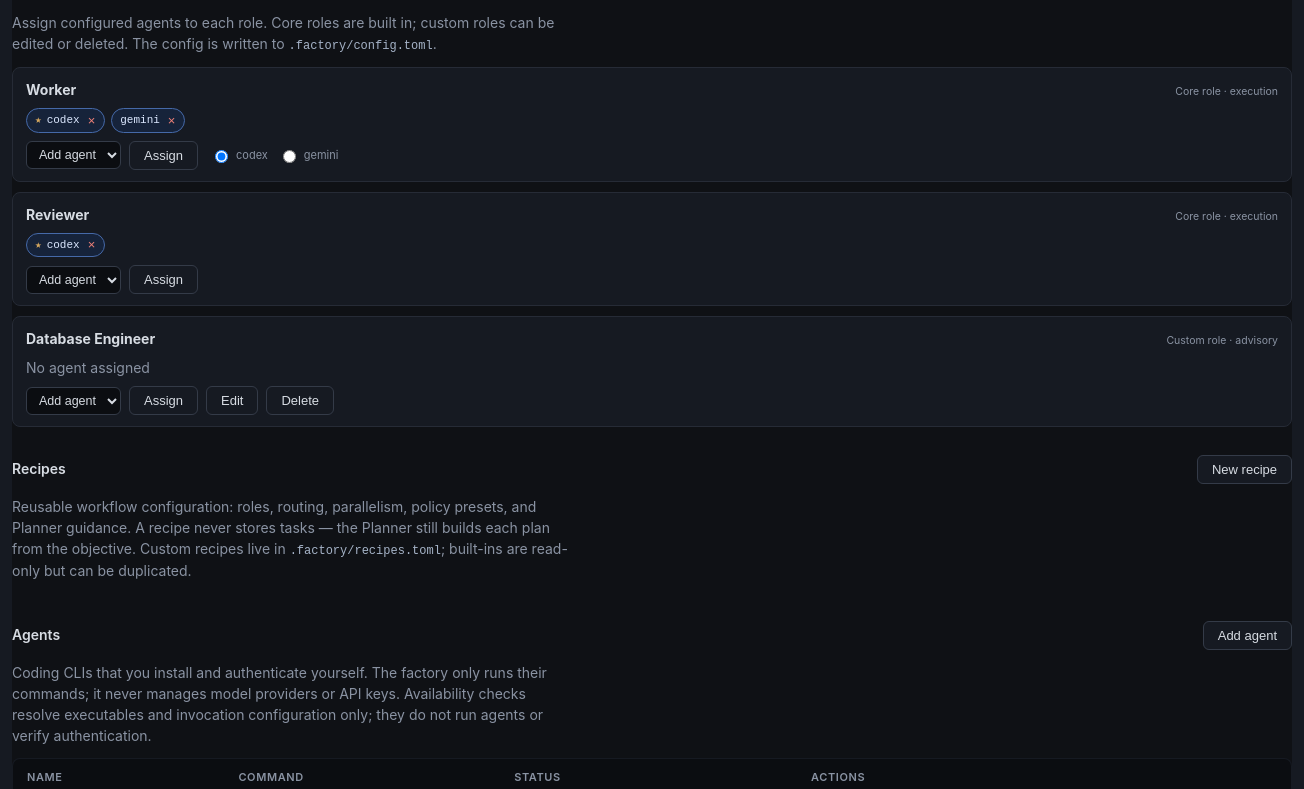
Settings roles › deletes a custom role and surfaces in-use failures
(page scrolled)
What coordinates should you click on to do the following:
click the button "Delete"
I would click on:
 (300, 400)
Its box is [266,386,334,415].
(page scrolled)
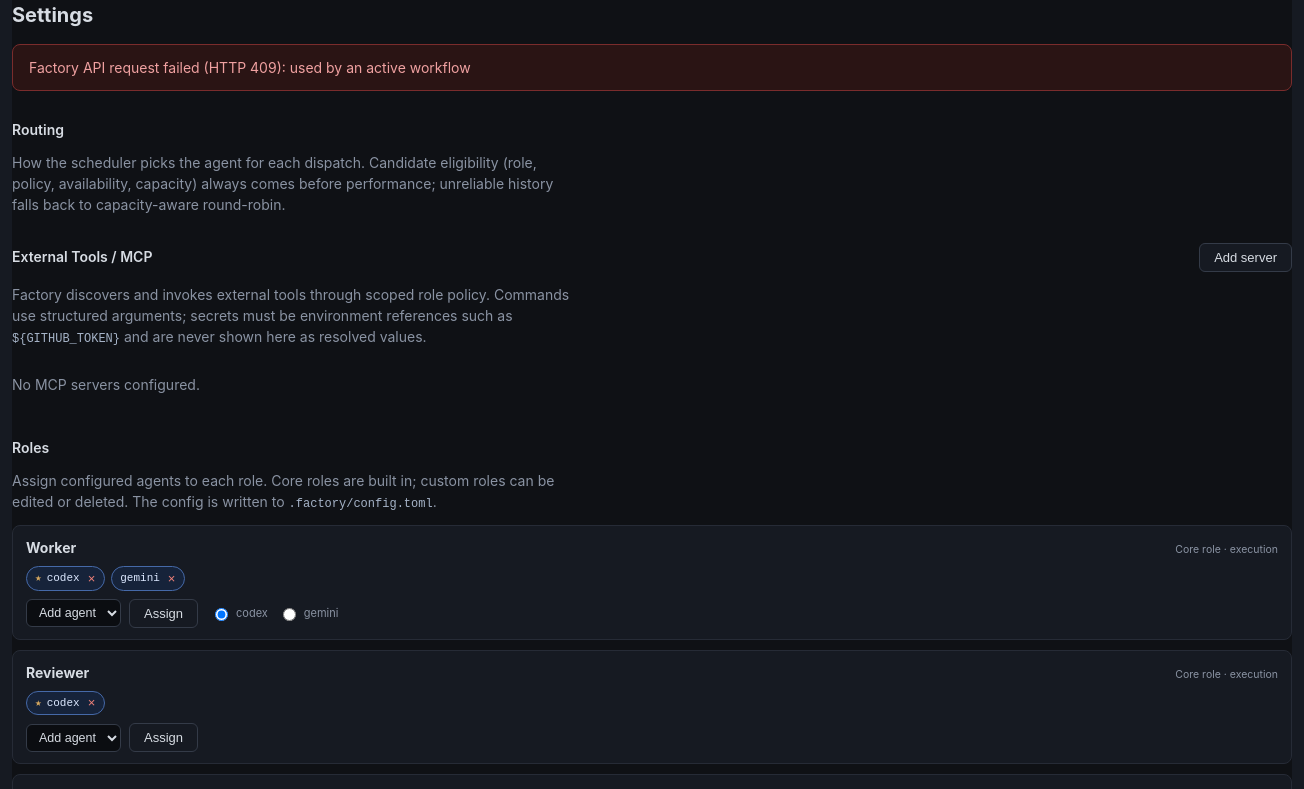
Now the text "used by an active workflow" is shown, box [29,59,471,76]
